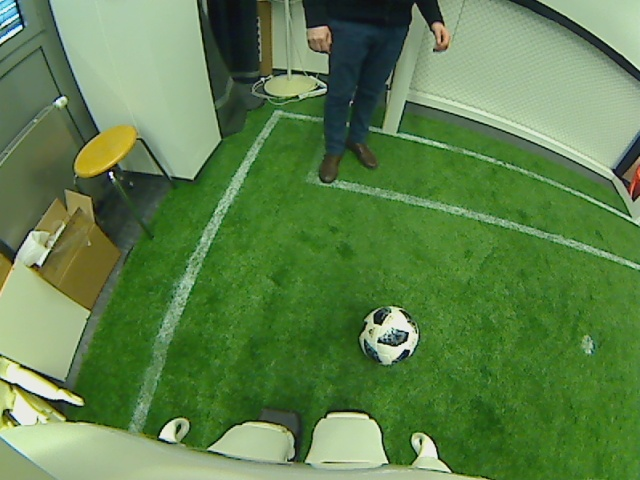ball: (357, 303, 421, 369)
